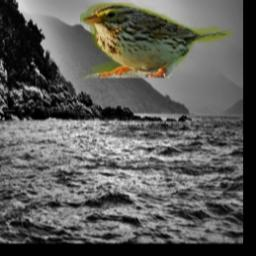Sparrow: (81, 4, 232, 79)
